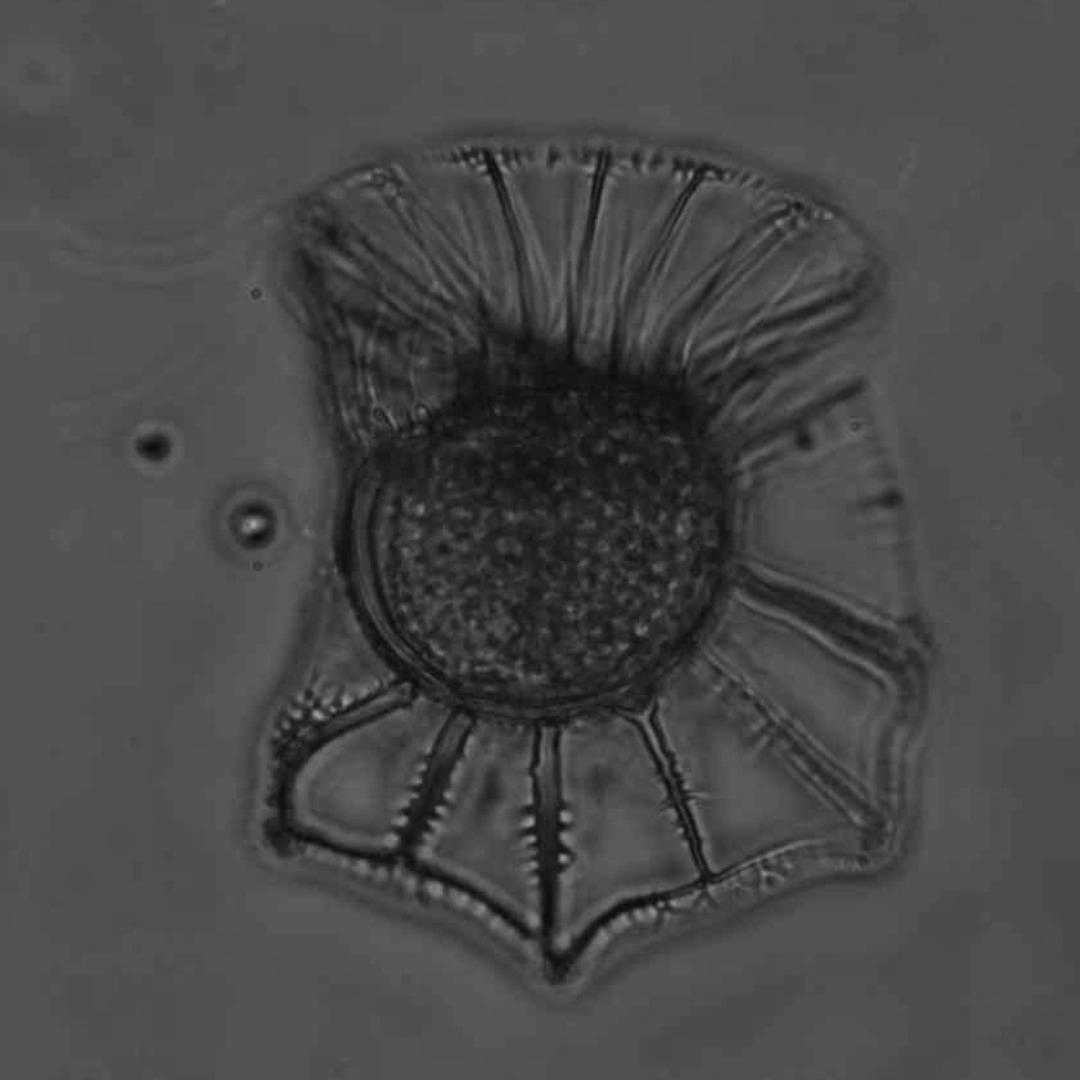ornithocercus_thumii: (252, 147, 928, 999)
